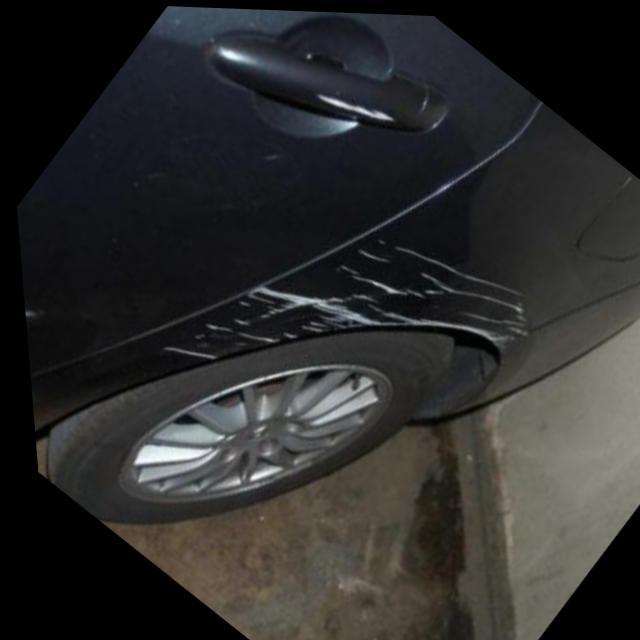rub: (162, 234, 523, 364)
